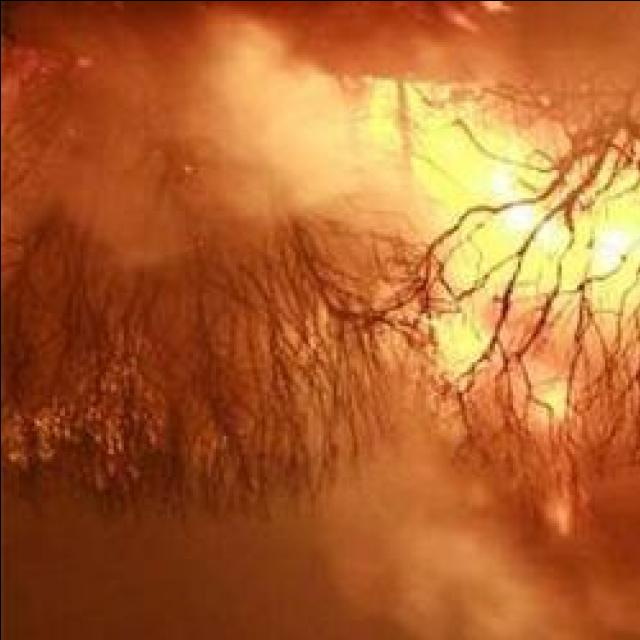fire: (496, 188, 546, 238), (591, 222, 637, 258)
smoke: (178, 24, 358, 204), (391, 533, 640, 638), (346, 493, 493, 615), (100, 0, 292, 90), (525, 0, 640, 90)
